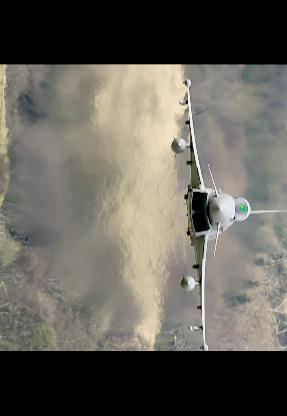E2: (169, 78, 285, 352)
